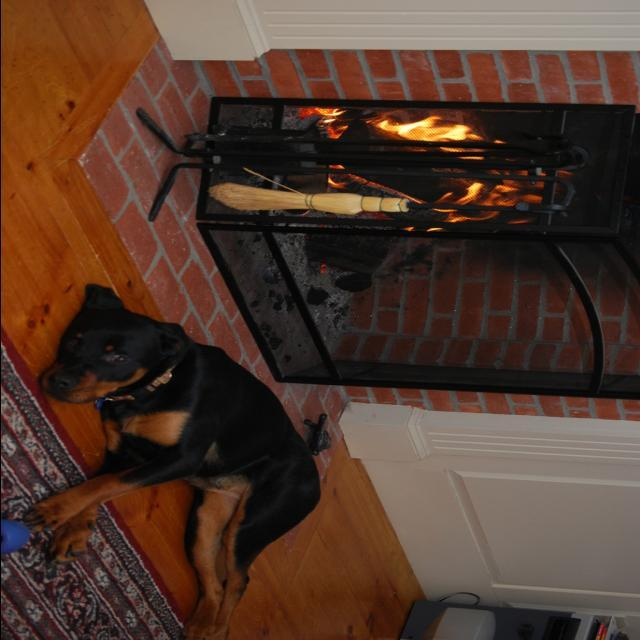Fire: (307, 104, 553, 220)
